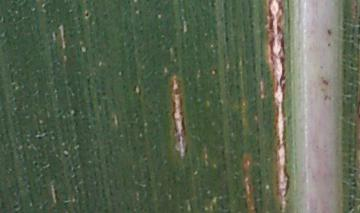tarspot: (83, 8, 91, 21)
